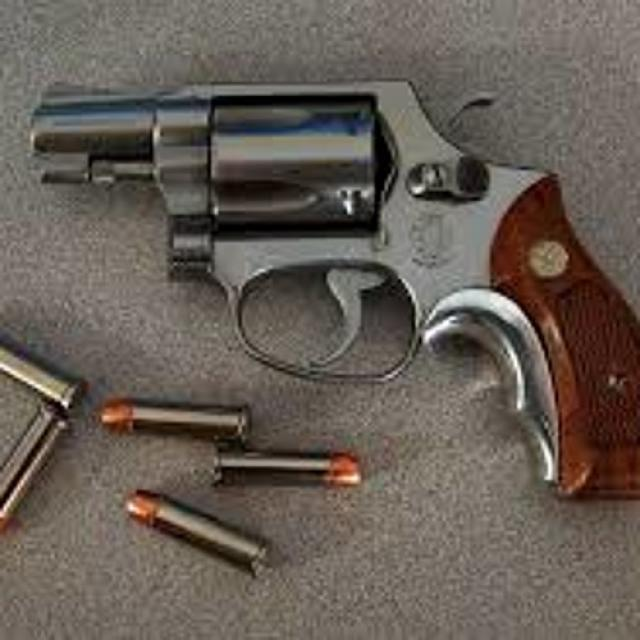Pistol: (31, 80, 637, 493)
